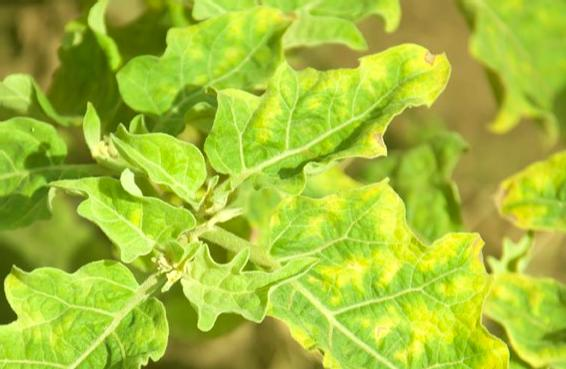Tomato leaf mosaic virus: (242, 181, 566, 369), (191, 37, 461, 193), (2, 236, 160, 369), (57, 163, 187, 268), (172, 241, 318, 321)
